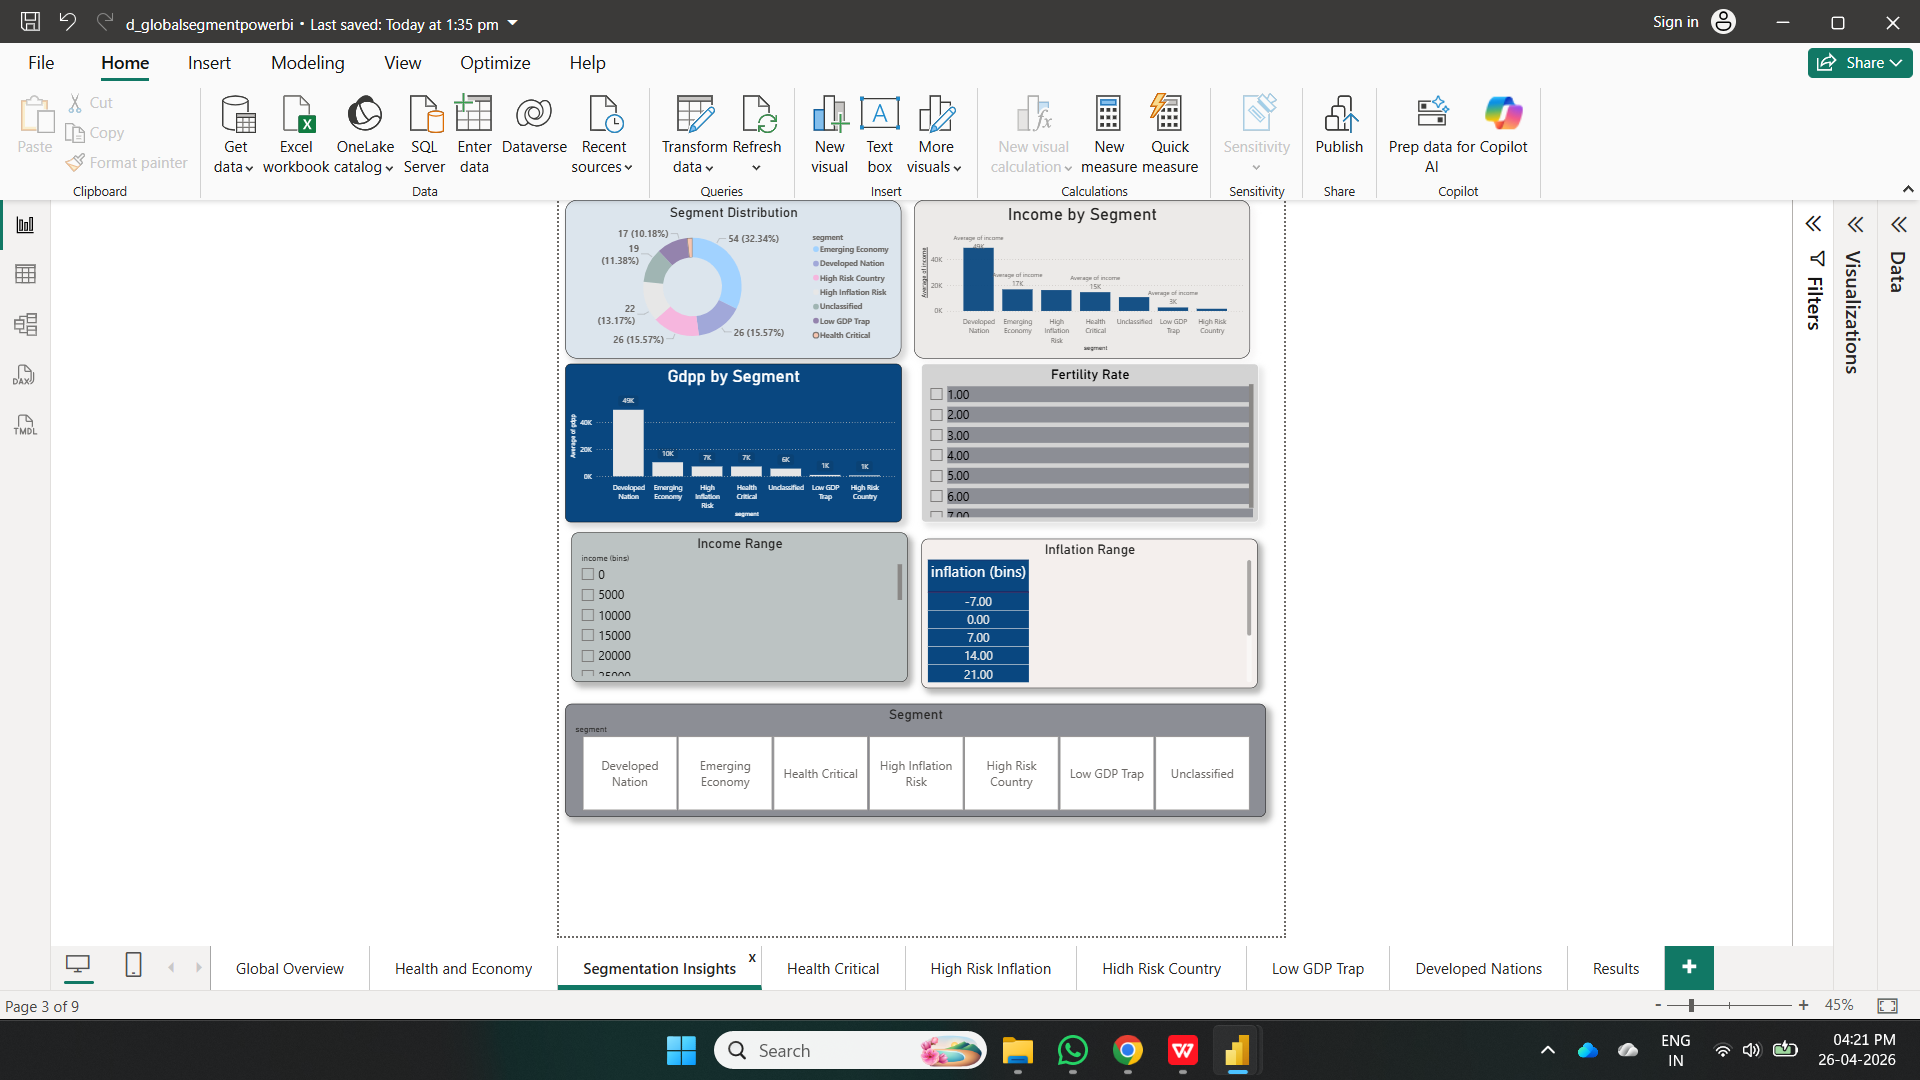

What the dashboard file says about the page in this screenshot:
{"tool":"powerbi","page":{"name":"Segmentation Insights","canvas":[1280,1300],"ordinal":2},"visuals":[{"type":"donutChart","title":"Segment Distribution","fields":{"Category":["country_clean.segment"],"Y":["CountNonNull(country_clean.country)"]},"box":[10,0,593.8,280],"z":0},{"type":"clusteredColumnChart","title":"Income by Segment","fields":{"Category":["country_clean.segment"],"Y":["Avg(country_clean.income)"]},"box":[626.2,0,593.8,280],"z":1000},{"type":"clusteredColumnChart","title":"Gdpp by Segment","fields":{"Category":["country_clean.segment"],"Y":["Avg(country_clean.gdpp)"]},"box":[10,290,594,280],"z":2000},{"type":"slicer","title":"Segment","fields":{"Values":["country_clean.segment"]},"box":[10,888.8,1237.5,200],"z":3000},{"type":"slicer","title":"Income Range","fields":{"Values":["country_clean.income (bins)"]},"box":[22.5,587.5,593.8,263.8],"z":4000},{"type":"slicer","title":"Fertility Rate","fields":{"Values":["country_clean.total_fer (bins)"]},"box":[640,290,595,280],"z":5000},{"type":"tableEx","title":"Inflation Range","fields":{"Values":["country_clean.inflation (bins)"]},"box":[641.2,597.5,593.8,263.8],"z":6000}]}

Visuals, with their boxes on the page's 1280x1300 design canvas (x1, y1, x2, y2). These are canvas units, not pixel positions in the 1920x1080 screenshot, which may show the page scaled, cropped or inside an application window:
"Segment Distribution" donutChart: [x1=10, y1=0, x2=604, y2=280]
"Income by Segment" clusteredColumnChart: [x1=626, y1=0, x2=1220, y2=280]
"Gdpp by Segment" clusteredColumnChart: [x1=10, y1=290, x2=604, y2=570]
"Segment" slicer: [x1=10, y1=889, x2=1248, y2=1089]
"Income Range" slicer: [x1=22, y1=588, x2=616, y2=851]
"Fertility Rate" slicer: [x1=640, y1=290, x2=1235, y2=570]
"Inflation Range" tableEx: [x1=641, y1=598, x2=1235, y2=861]
